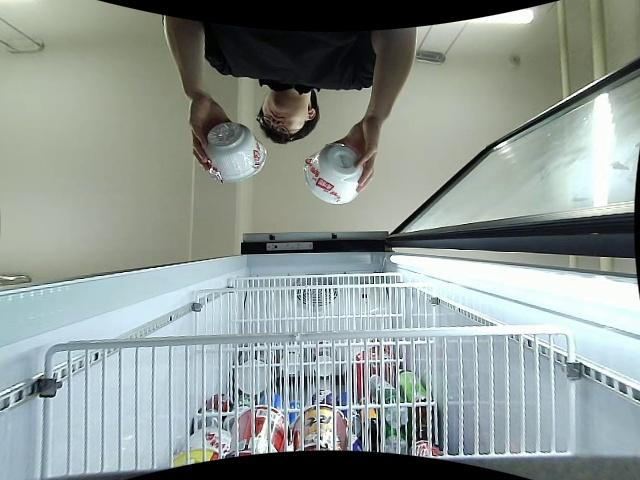00_hand: (331, 118, 381, 195), (187, 99, 233, 173)
09_yukGaeJang: (202, 120, 270, 183), (303, 140, 361, 203)
